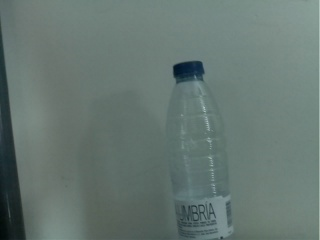botella plastico: (168, 59, 239, 240)
